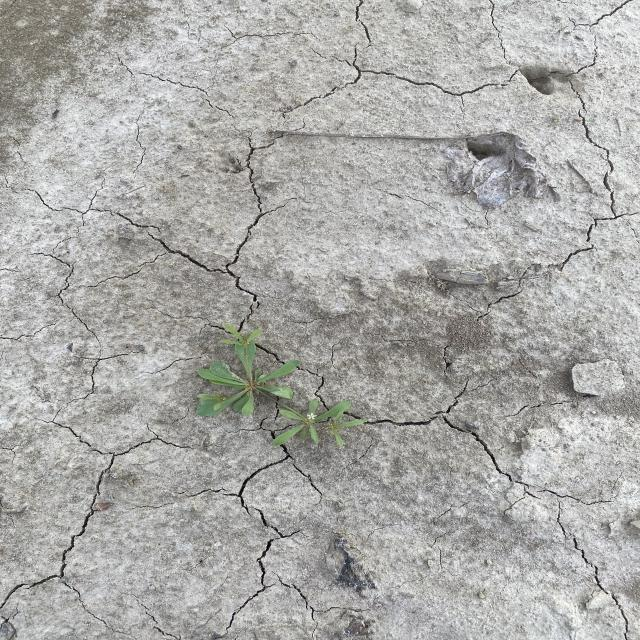Carpetweed: (192, 321, 370, 449)
